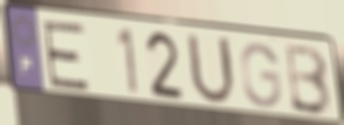1: (115, 27, 141, 99)
2: (143, 28, 188, 103)
B: (284, 42, 335, 118)
E: (40, 20, 93, 93)
G: (238, 40, 284, 110)
U: (184, 30, 238, 109)
